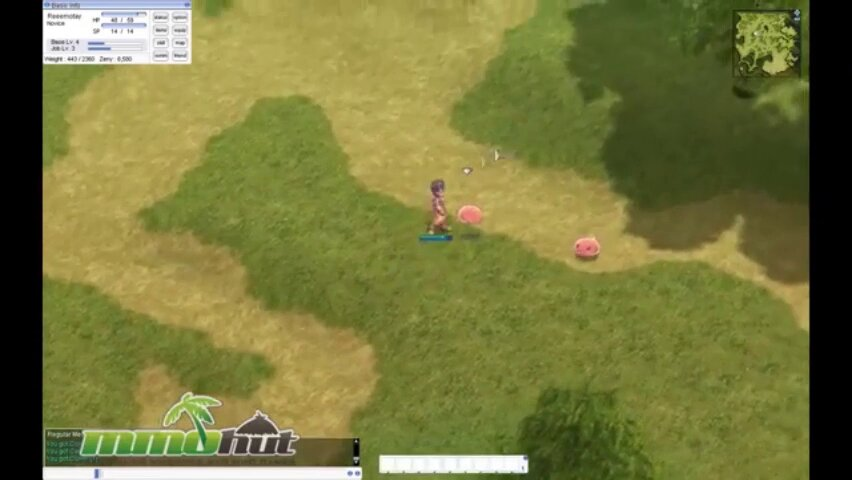Monster01: (569, 233, 600, 259), (457, 204, 488, 225)
